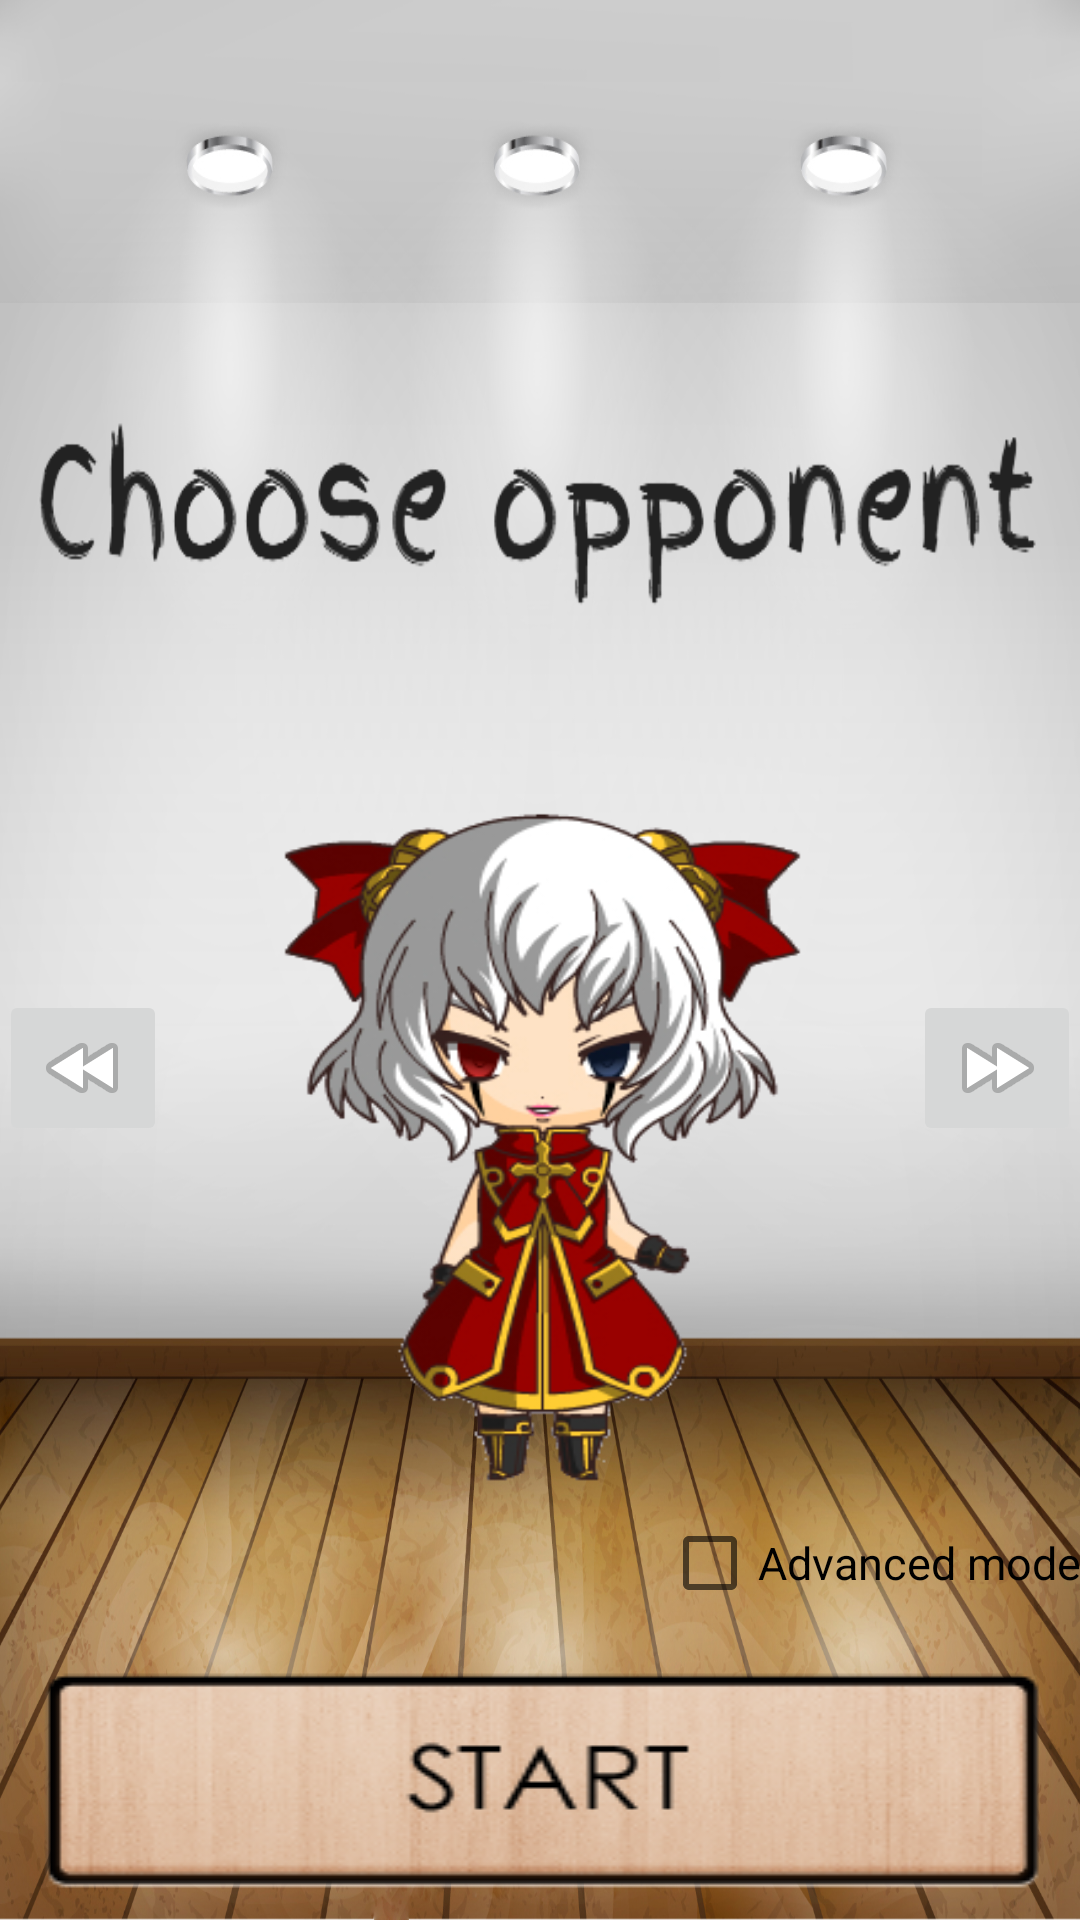

Locate icon controls on the screen. Image size 1080*1920, boxes as (x1, y1, x2, y2).
rew: (46, 1043, 118, 1093)
